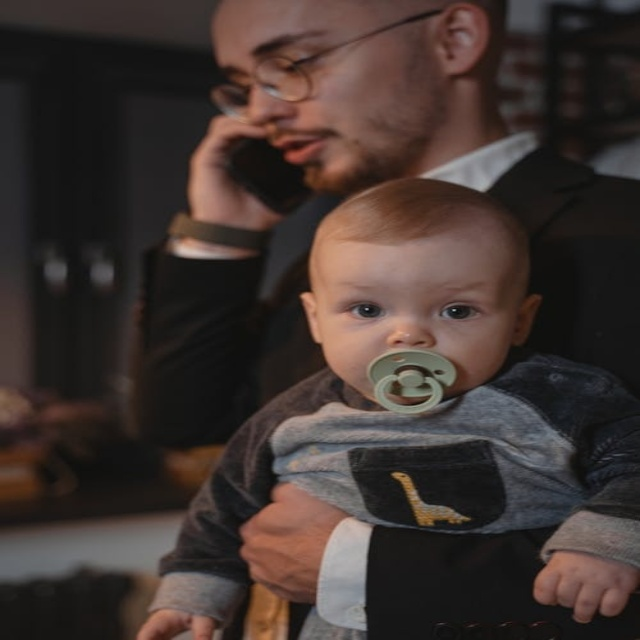Gafas: (207, 6, 452, 126)
Sin_gafas: (325, 275, 492, 324)
Sin_guantes: (237, 484, 319, 608), (177, 113, 265, 226), (530, 550, 628, 625), (134, 612, 214, 637)
Sin_mascara: (269, 133, 364, 189)
